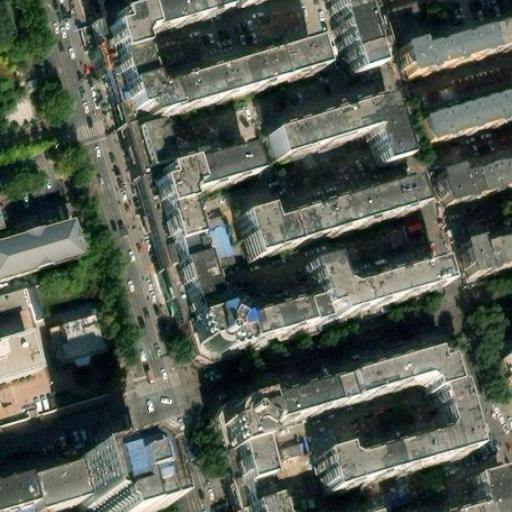building: (101, 12, 446, 365), (321, 368, 476, 491), (230, 378, 355, 482), (165, 42, 322, 114), (268, 101, 401, 165), (282, 187, 419, 245), (109, 5, 174, 122), (305, 262, 442, 317), (216, 401, 273, 512), (397, 23, 512, 78), (348, 347, 452, 400), (415, 94, 512, 149), (182, 194, 222, 314), (68, 455, 146, 512), (432, 164, 512, 209), (155, 162, 197, 245), (172, 239, 214, 320), (244, 300, 321, 344), (332, 0, 373, 75), (52, 316, 108, 367), (189, 150, 256, 192), (455, 239, 512, 282), (236, 210, 288, 257), (193, 311, 251, 352), (22, 475, 79, 512), (464, 472, 512, 512), (206, 214, 238, 266), (387, 10, 418, 51), (140, 32, 161, 92), (491, 347, 512, 396), (0, 288, 26, 311)
